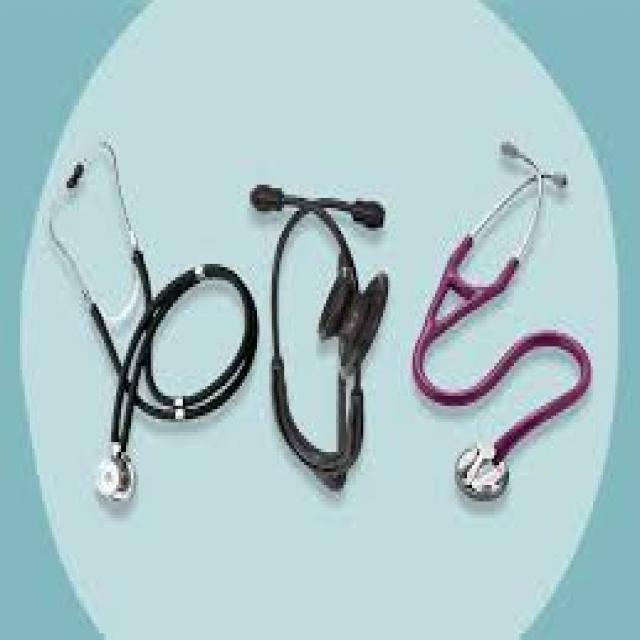stethoscope: (25, 108, 616, 552)
